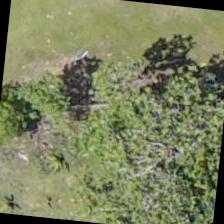Kelapa_Sawit: (5, 113, 104, 212), (3, 155, 99, 222), (0, 159, 54, 218)
